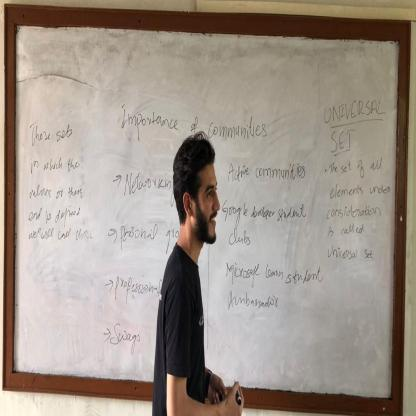Handwritten text: (115, 96, 271, 149), (221, 254, 328, 292), (224, 151, 308, 192), (217, 190, 309, 226), (122, 166, 176, 210), (116, 265, 162, 309), (321, 95, 386, 126), (29, 113, 78, 150), (117, 216, 160, 254), (26, 150, 85, 177), (25, 177, 86, 202), (25, 204, 85, 229), (110, 315, 141, 361), (328, 156, 387, 180), (326, 240, 376, 266), (226, 294, 283, 316), (324, 202, 386, 222), (330, 182, 393, 201), (224, 221, 255, 251), (329, 127, 357, 156), (325, 224, 369, 241)
Lecturer: (141, 125, 246, 410)
Whiteboard: (0, 14, 409, 403)
